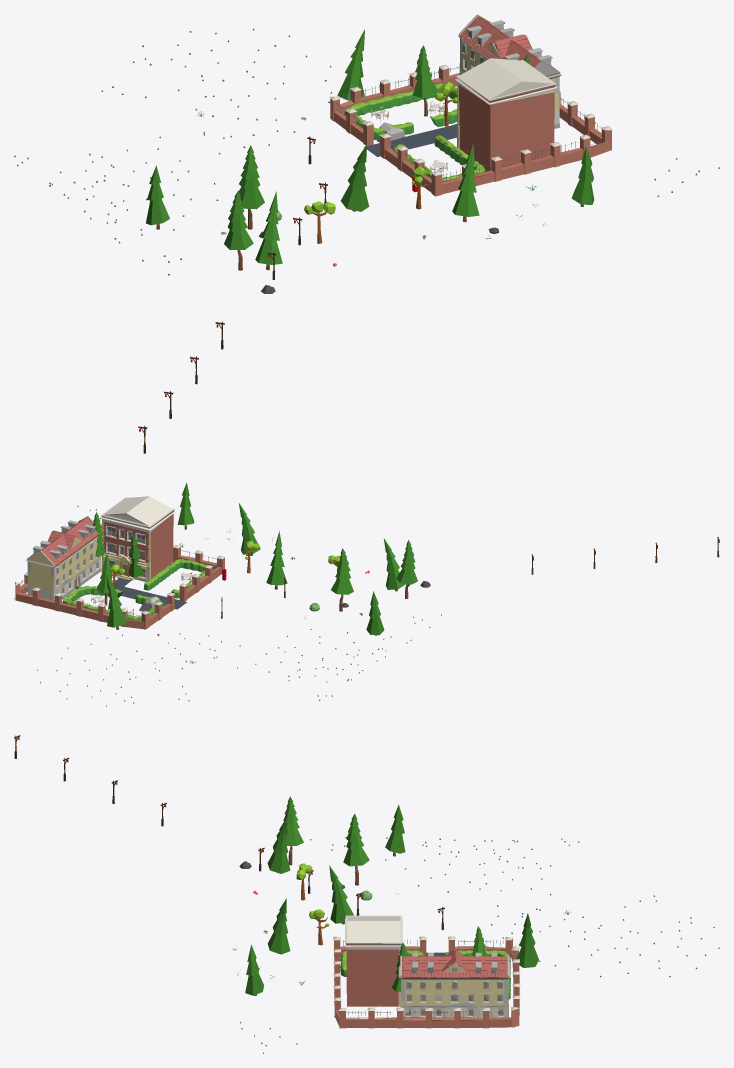
Rendered from chunk_2_2_lod1.glb.
The picture shows the model from 3 angles, top to bottom: view 1: azimuth 30°, elevation 25°; view 2: azimuth 150°, elevation 25°; view 3: azimuth 270°, elevation 25°; orthographic projection. The views are drawn at different scales.
Parts seen in each view (by area): view 1: Batched_chunk_2_2_lod1; view 2: Batched_chunk_2_2_lod1; view 3: Batched_chunk_2_2_lod1.
Part boxes in pixels (x1,y1,x2,y2): Batched_chunk_2_2_lod1: [14, 14, 719, 453]; Batched_chunk_2_2_lod1: [14, 482, 719, 706]; Batched_chunk_2_2_lod1: [14, 735, 719, 1053].
Bounding box in the file's own units: 111 × 13.58 × 111.
32 materials, 3 textured.
